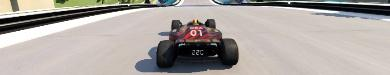Car: (155, 18, 238, 67)
obstacles-Borders: (0, 2, 169, 37)
